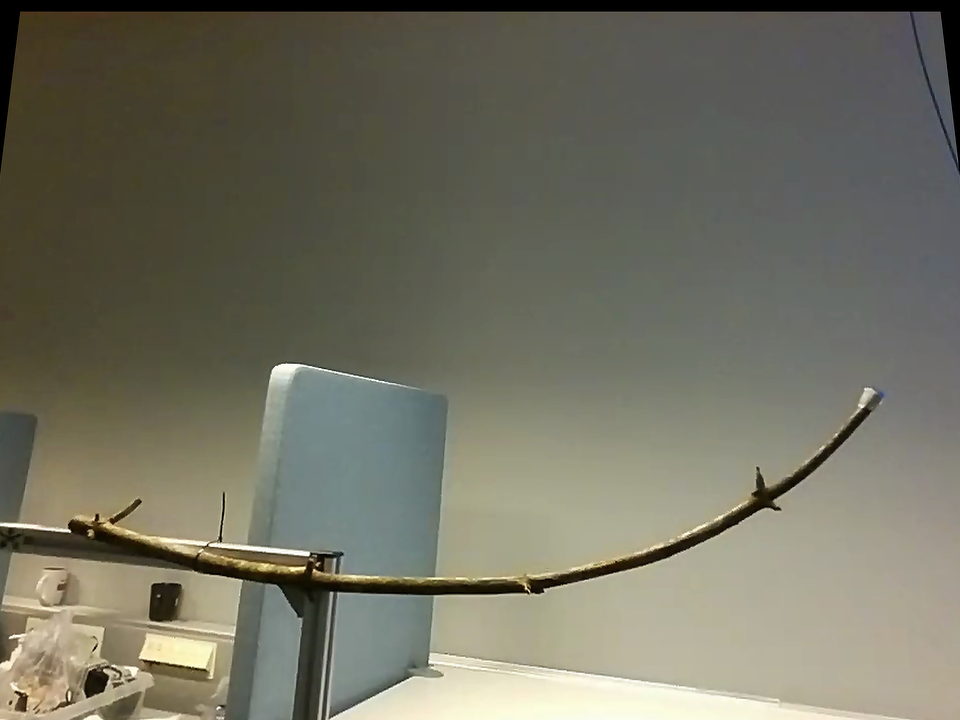branch: (351, 396, 850, 615)
